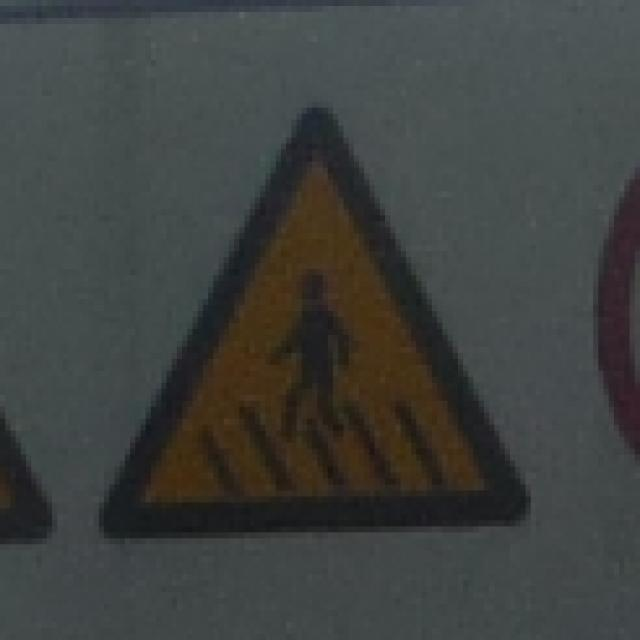Crossing: (72, 93, 550, 540)
